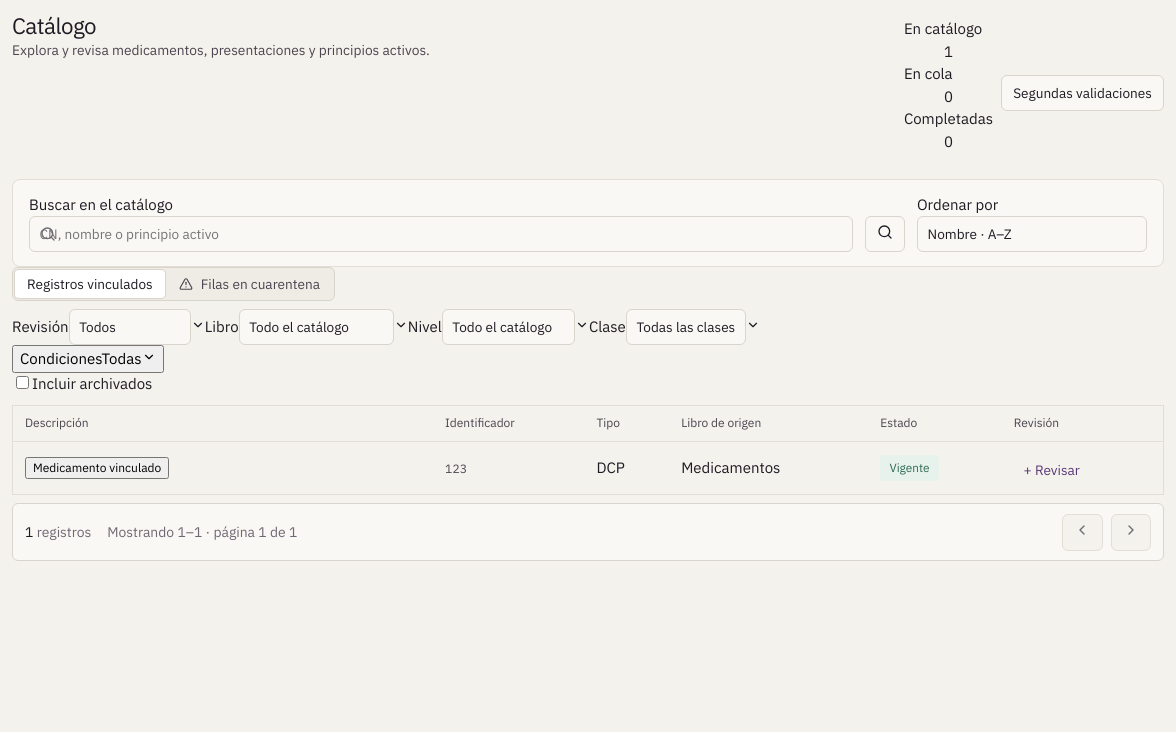
Test: añade a revisión desde una identidad vinculada sin escribir su identificador
Click the button "+ Revisar": (1052, 470) x1=1014 y1=455 x2=1090 y2=485
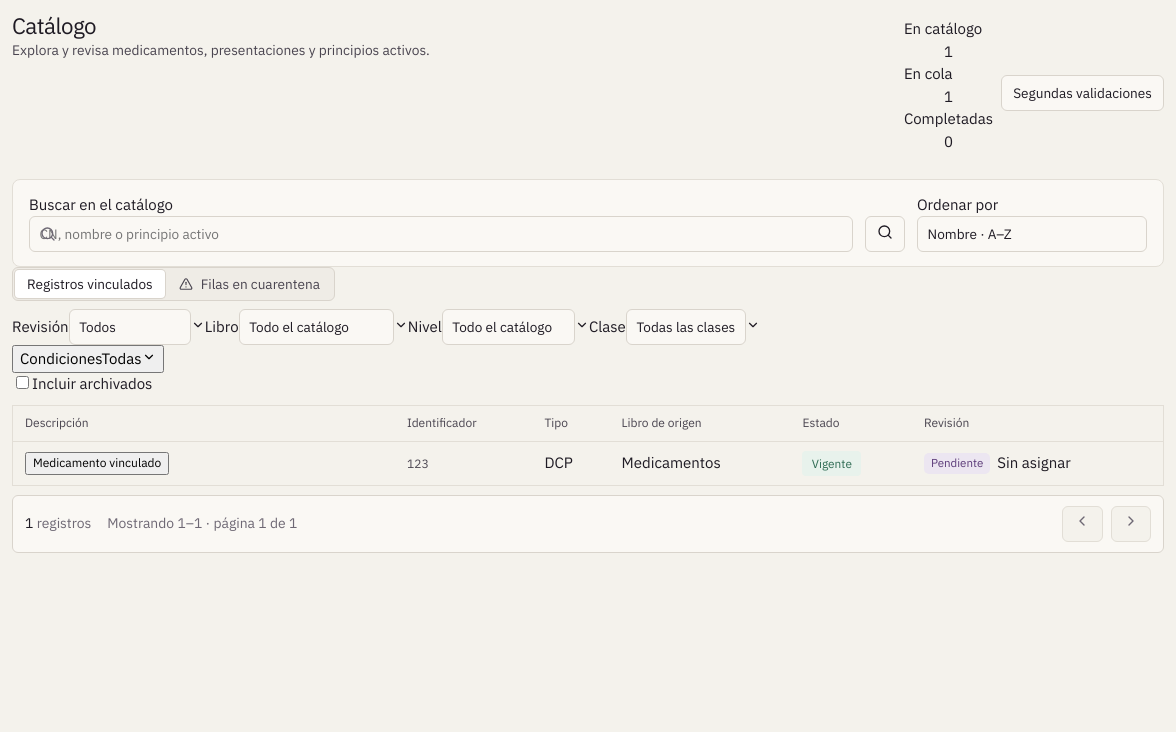
Check: the text "Pendiente" is shown, box x1=924 y1=453 x2=990 y2=474
